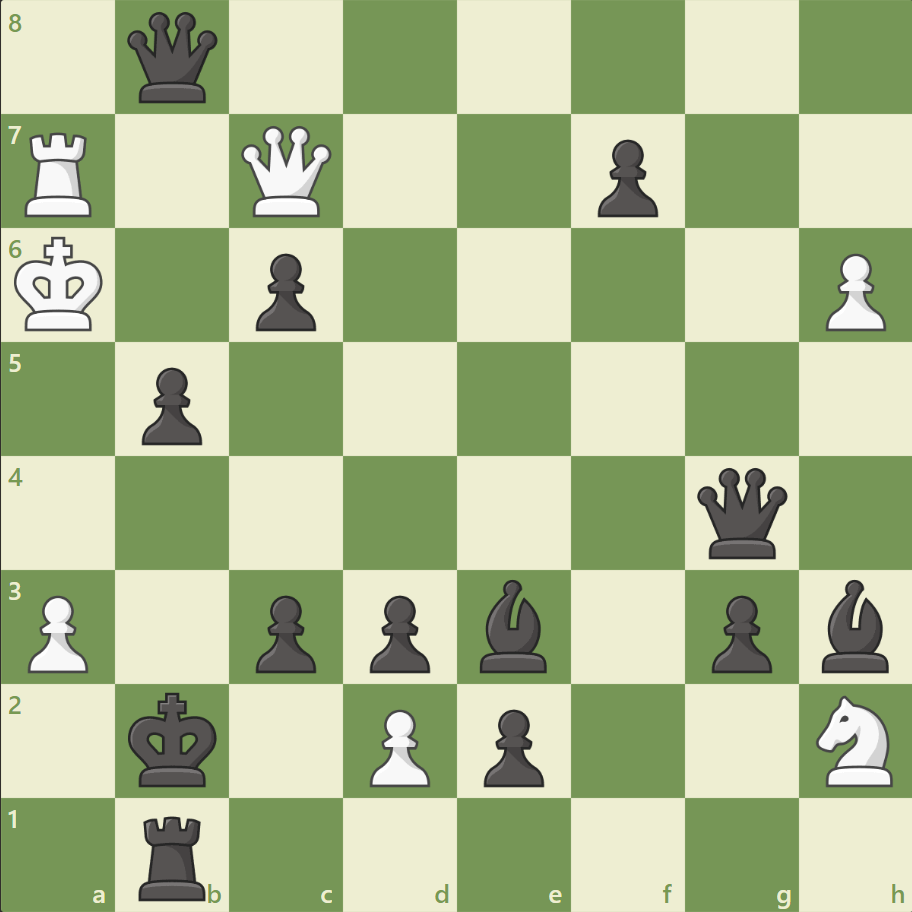K: (11, 231, 111, 339)
N: (806, 688, 903, 791)
P: (20, 586, 95, 677), (815, 246, 889, 337), (361, 700, 435, 791)
Q: (237, 122, 336, 222)
R: (19, 125, 102, 222)
b: (471, 574, 555, 676), (812, 574, 896, 676)
k: (124, 685, 224, 793)
p: (247, 246, 322, 337), (133, 359, 208, 450), (247, 586, 322, 677), (701, 586, 776, 677), (474, 700, 549, 791), (588, 132, 662, 223), (361, 586, 435, 677)
q: (124, 9, 223, 108), (691, 463, 790, 562)
r: (133, 806, 215, 904)
